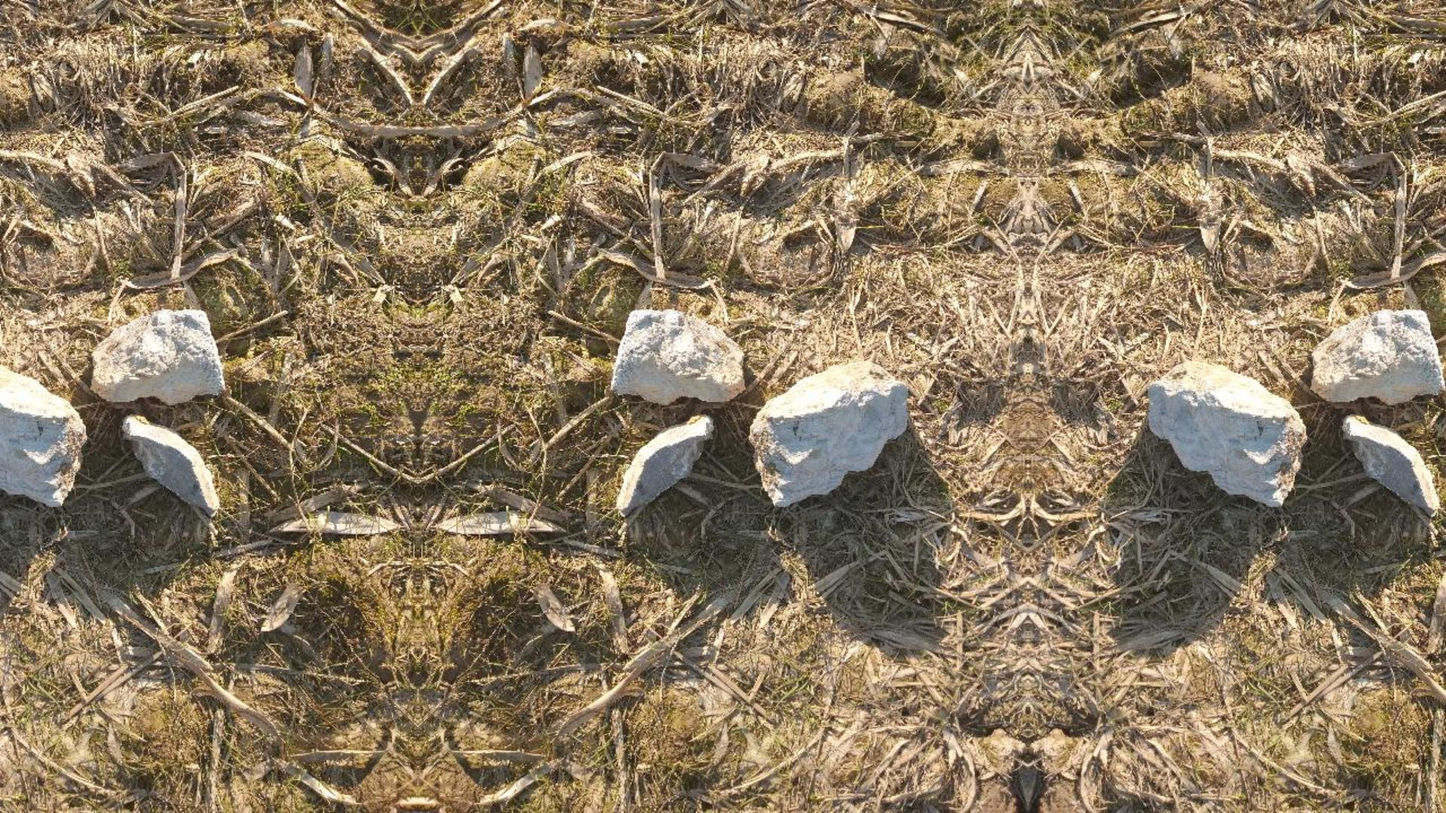rock: (749, 361, 907, 506), (1148, 361, 1306, 506), (611, 309, 744, 404), (90, 309, 224, 403), (1312, 309, 1445, 403), (0, 366, 86, 506), (122, 416, 219, 517), (617, 416, 713, 517), (1342, 416, 1438, 516)
